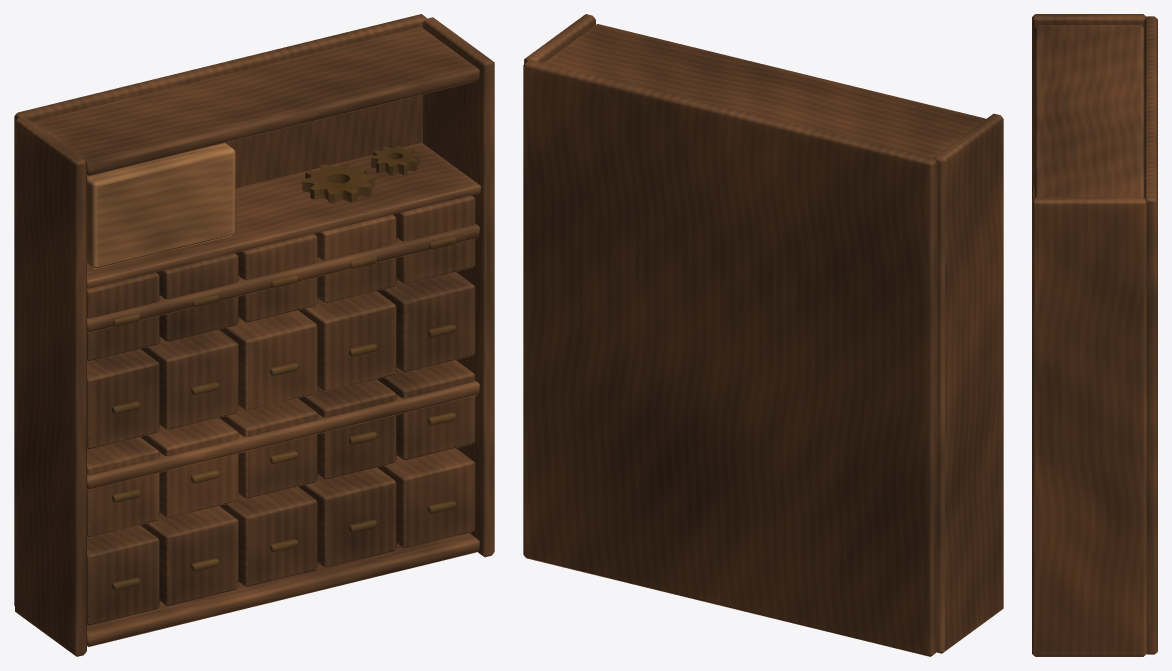
The model's file is Furn_Tool_PartsShelf.fbx.
The picture shows the model from 3 angles, left to right: view 1: azimuth 30°, elevation 25°; view 2: azimuth 150°, elevation 25°; view 3: azimuth 270°, elevation 25°; orthographic projection. The views are drawn at different scales.
Parts seen in each view (by area): view 1: Furn_Tool_PartsShelf; view 2: Furn_Tool_PartsShelf; view 3: Furn_Tool_PartsShelf.
Part boxes in pixels (x1=…): Furn_Tool_PartsShelf: x1=14, y1=14, x2=494, y2=656; Furn_Tool_PartsShelf: x1=523, y1=14, x2=1003, y2=656; Furn_Tool_PartsShelf: x1=1032, y1=14, x2=1157, y2=656.
Size of the model in its own units: 1.6 by 1.8 by 0.45.
Materials: 3 (3 with a texture image).
